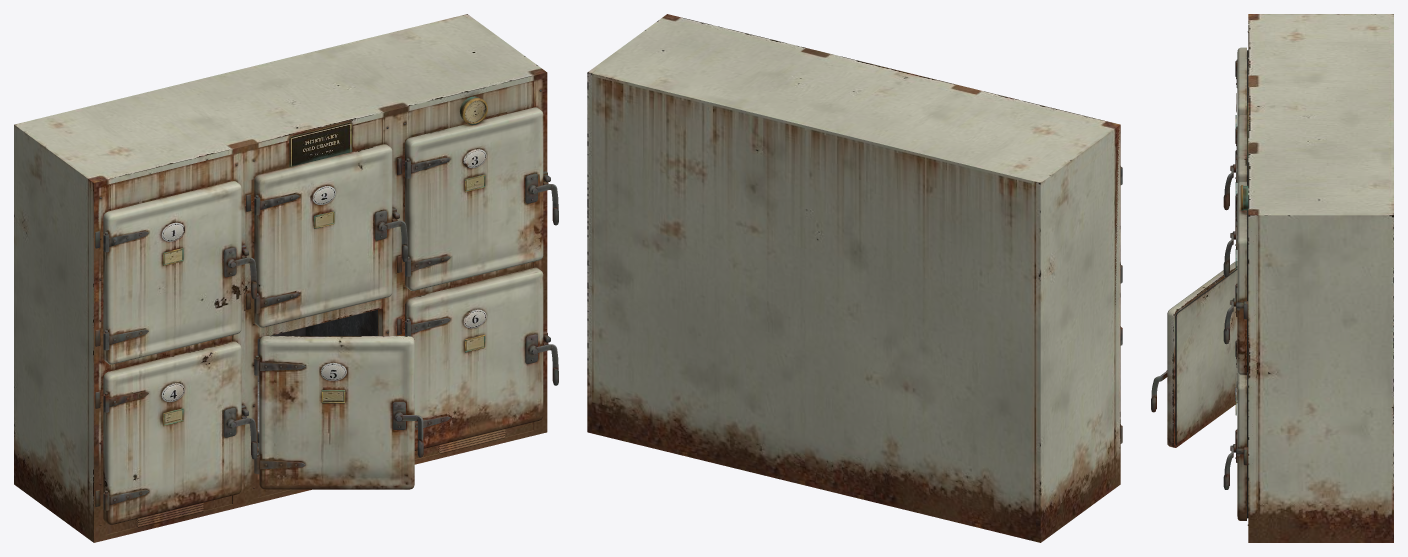
Rendered from prop_morgue_drawers.glb.
3 renders of one model, left to right at view 1: azimuth 30°, elevation 25°; view 2: azimuth 150°, elevation 25°; view 3: azimuth 270°, elevation 25°, orthographic. The views are drawn at different scales.
Parts seen in each view (by area): view 1: Body, DrawerDoorOpen; view 2: Body; view 3: Body, DrawerDoorOpen.
Part boxes in pixels (x1,y1,x2,y2): Body: [14, 14, 558, 542]; DrawerDoorOpen: [254, 336, 423, 489]; Body: [587, 14, 1122, 542]; Body: [1223, 14, 1393, 542]; DrawerDoorOpen: [1151, 261, 1237, 447].
Bounding box in the file's own units: 2.9 × 2.2 × 1.48.
Materials: 2 (2 with a texture image).
